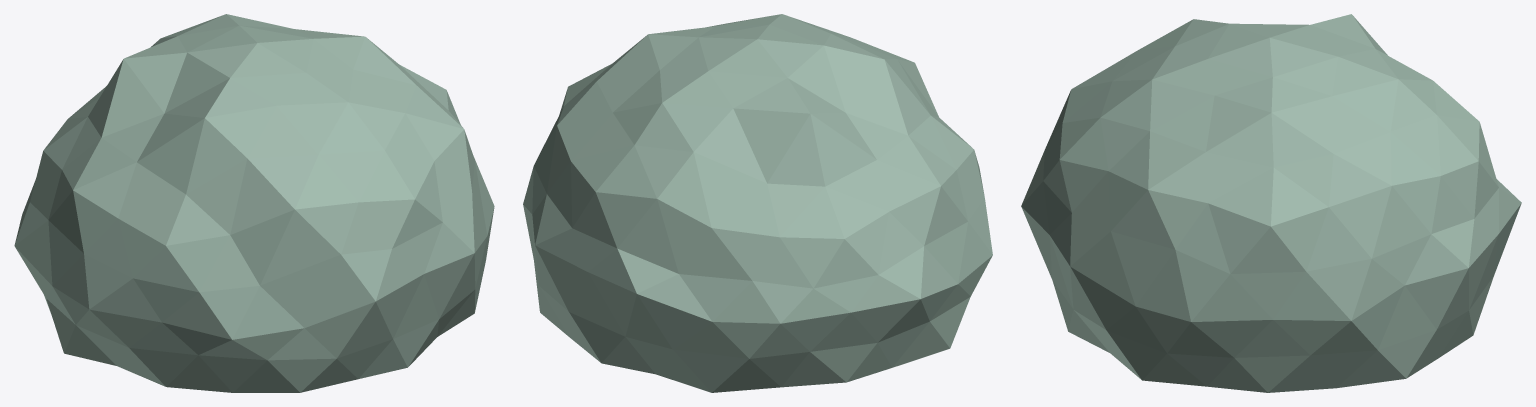
File: Bush_1.fbx
3 views of the same model, side by side, from view 1: azimuth 30°, elevation 25°; view 2: azimuth 150°, elevation 25°; view 3: azimuth 270°, elevation 25° (orthographic).
Visible parts, largest first — view 1: Icosphere; view 2: Icosphere; view 3: Icosphere.
Part boxes in pixels (x1,y1,x2,y2): Icosphere: [14, 14, 494, 392]; Icosphere: [523, 14, 992, 392]; Icosphere: [1021, 14, 1521, 392].
Bounding box in the file's own units: 324 × 211 × 344.
